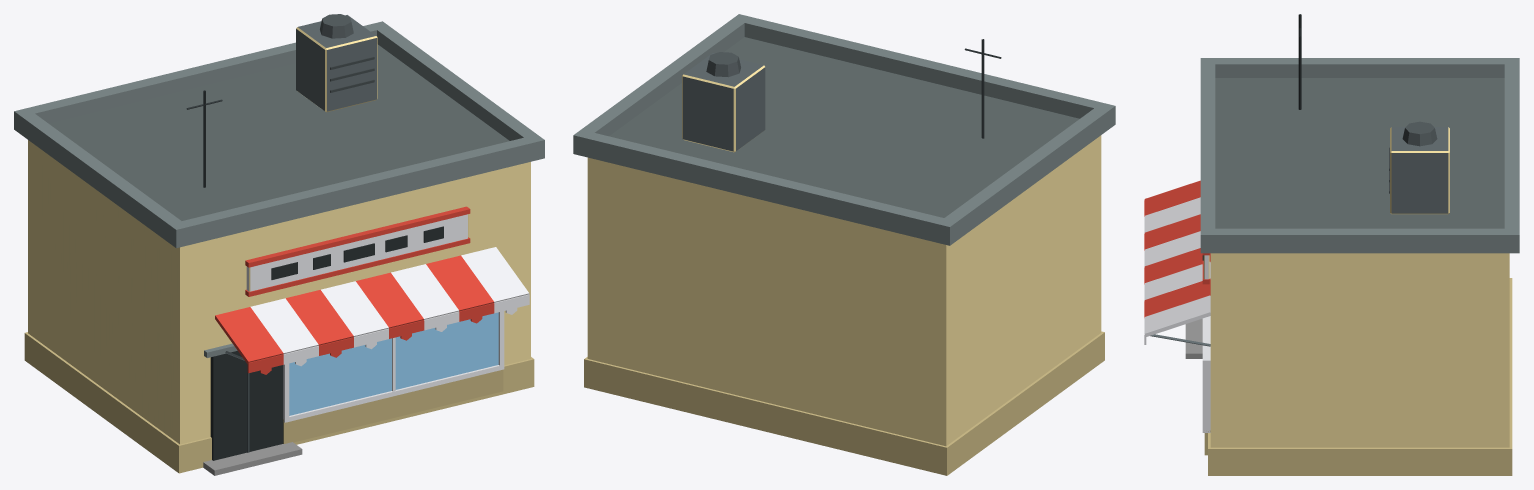
Rendered from awningShop.glb.
3 views of the same model, side by side, from view 1: azimuth 30°, elevation 25°; view 2: azimuth 150°, elevation 25°; view 3: azimuth 270°, elevation 25° (orthographic). The views are drawn at different scales.
Parts seen in each view (by area): view 1: awningShop-m; view 2: awningShop-m; view 3: awningShop-m.
Boxes of the visible parts, x1,y1,x2,y2 form: awningShop-m: (14,14,544,475); awningShop-m: (573,14,1115,475); awningShop-m: (1144,14,1519,475).
Size of the model in its own units: 8.4 by 7.2 by 7.53.
